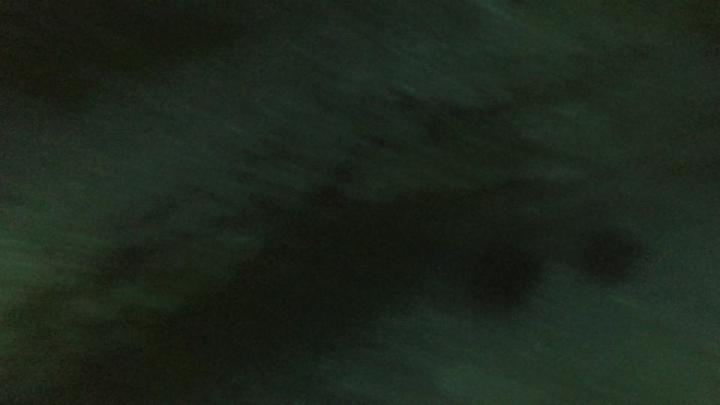echinus: (458, 232, 555, 322), (567, 221, 659, 292)
